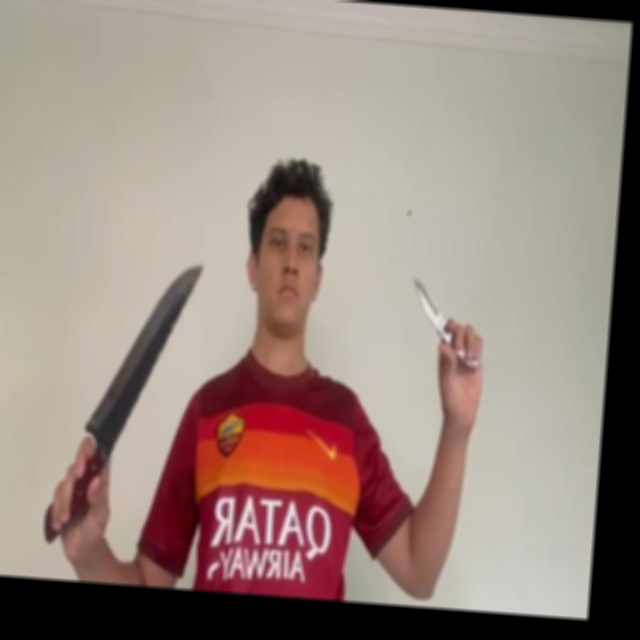Sharp-Object: (83, 257, 205, 444), (409, 278, 446, 328)
